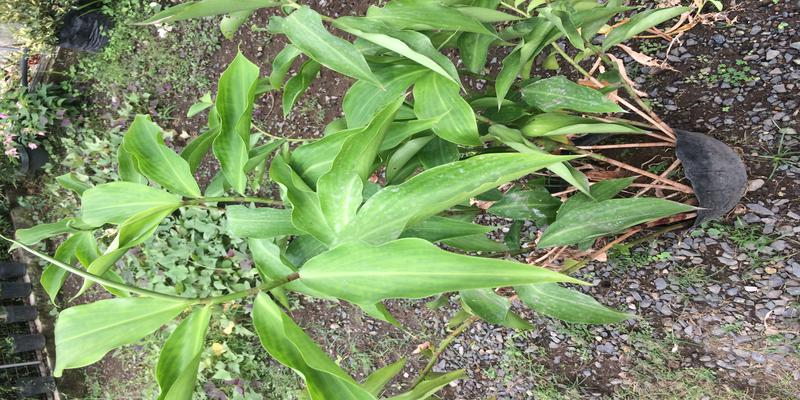Insulin: (247, 31, 684, 332)
